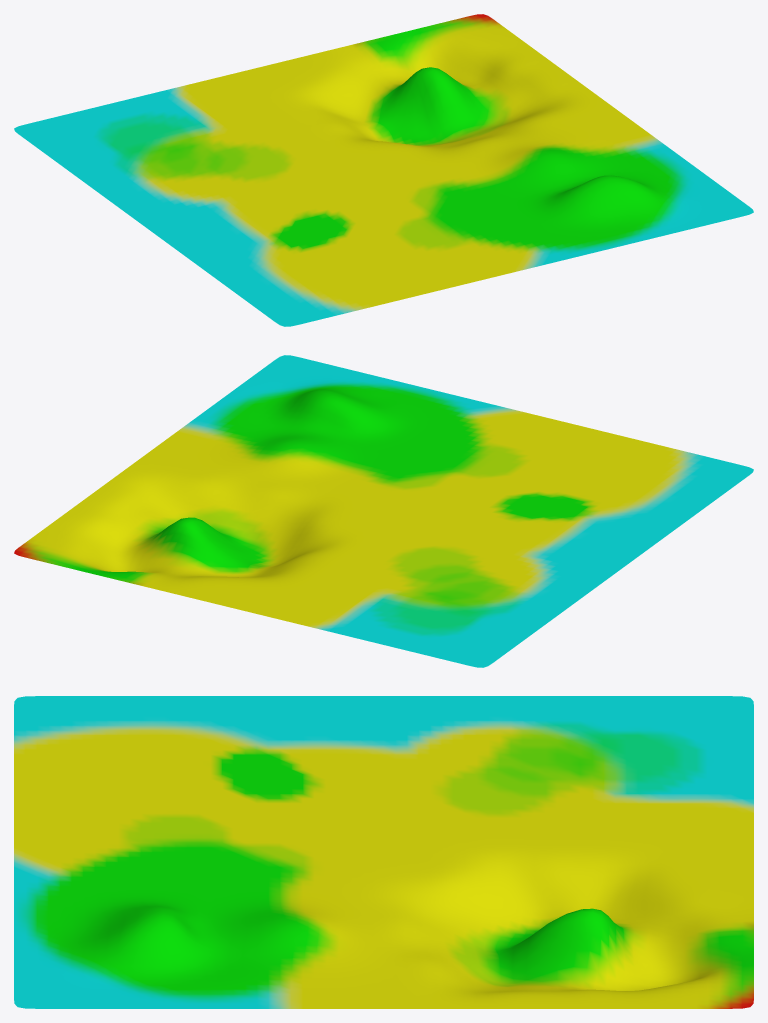
The model's file is CaveFloor_Test.fbx.
3 views of the same model, one above another, from view 1: azimuth 30°, elevation 25°; view 2: azimuth 150°, elevation 25°; view 3: azimuth 270°, elevation 25° (orthographic). The views are drawn at different scales.
Visible parts, largest first — view 1: Plane.003; view 2: Plane.003; view 3: Plane.003.
Boxes of the visible parts, x1,y1,x2,y2 form: Plane.003: (14, 14, 753, 326); Plane.003: (14, 355, 753, 667); Plane.003: (14, 696, 753, 1008).
Bounding box in the file's own units: 20071 × 1858 × 20071.
